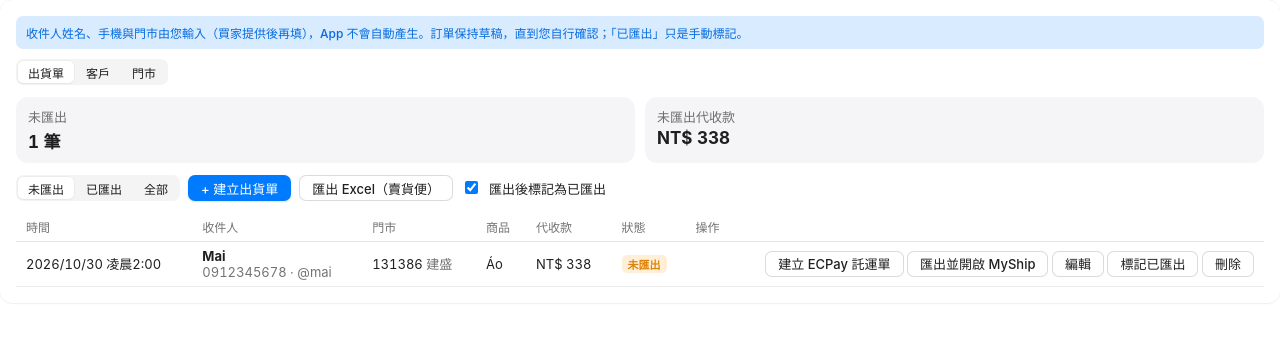
it: MyShip export › writes the order, copies and reveals the file, then opens MyShip
Click the button "匯出並開啟 MyShip" at (978, 264), box left=907, top=250, right=1048, bottom=276
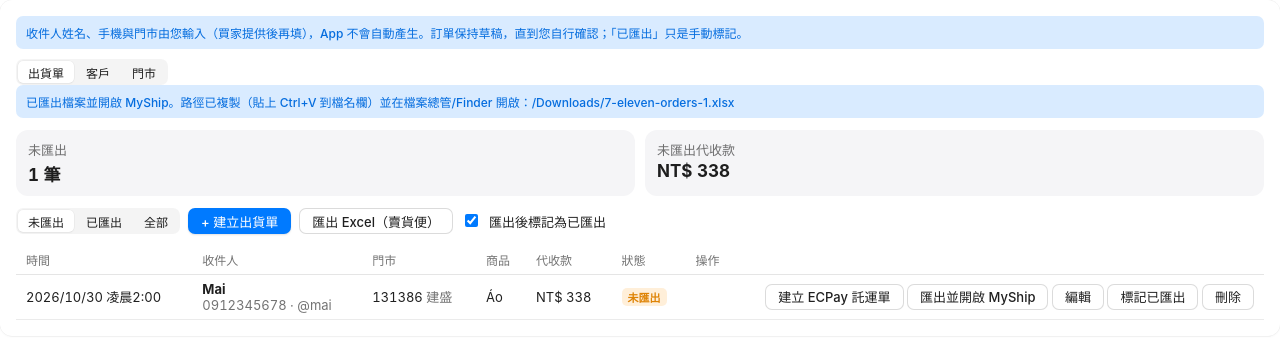
Now the text "7-eleven-orders-1.xlsx" is shown, box left=26, top=95, right=734, bottom=110
